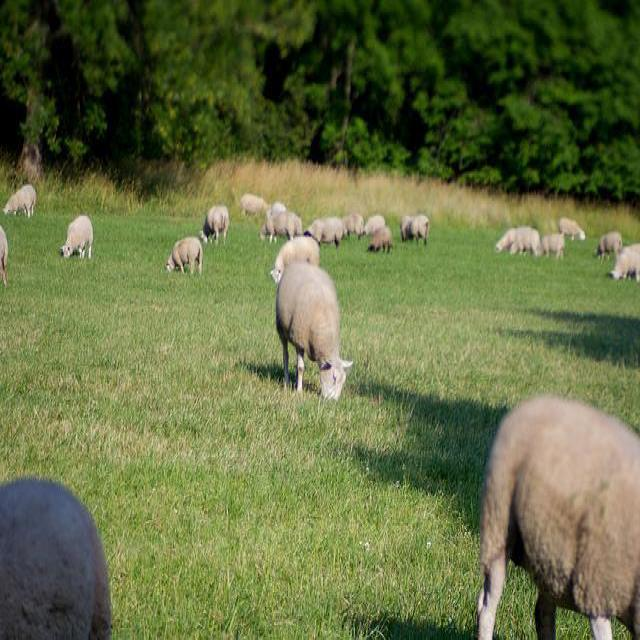Sheep: (1, 196, 616, 559), (477, 393, 639, 634), (277, 264, 354, 403), (267, 236, 321, 286)
